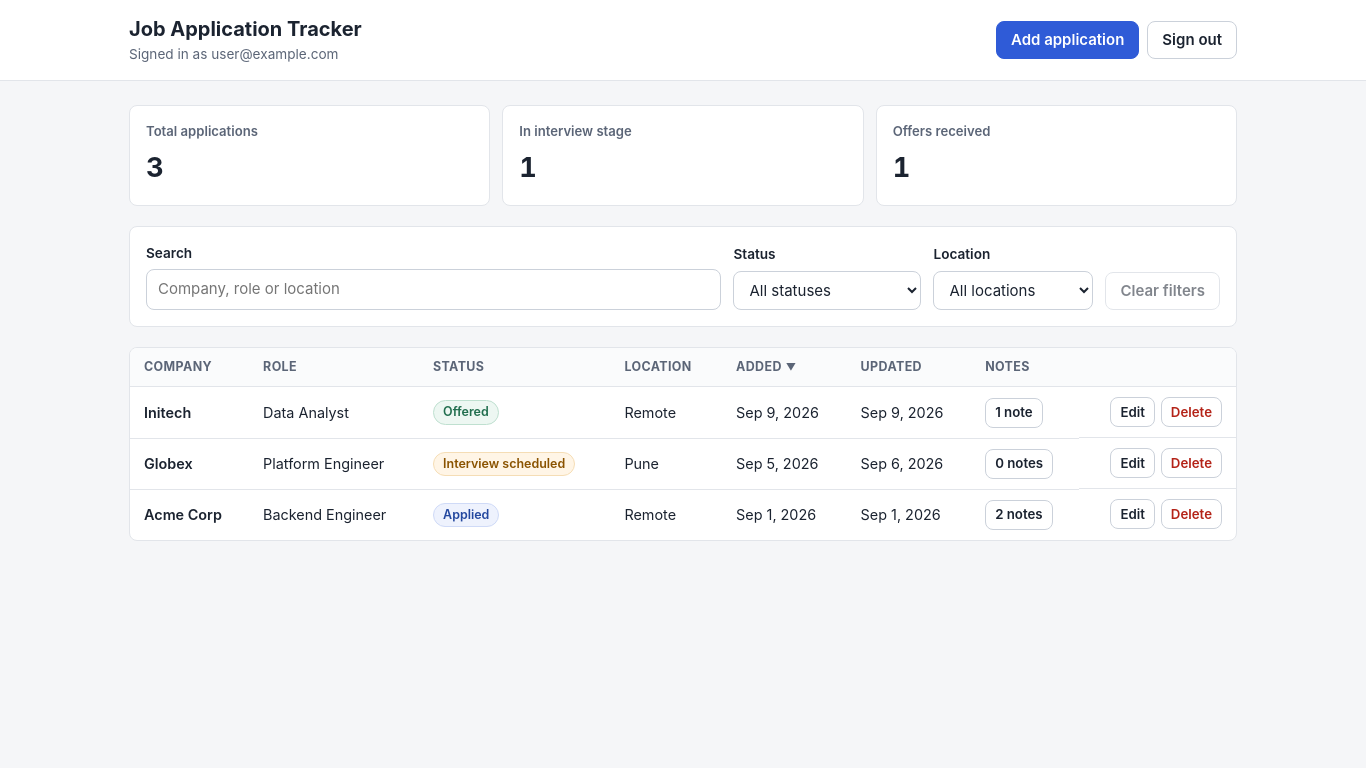
it: Dashboard › searches across company, role and location without extra requests
Expected: the cell "Acme Corp" is shown, [130,490,249,540]
In the search field labelled "Search": (434, 290) [146,269,722,310], type "Data Analyst"
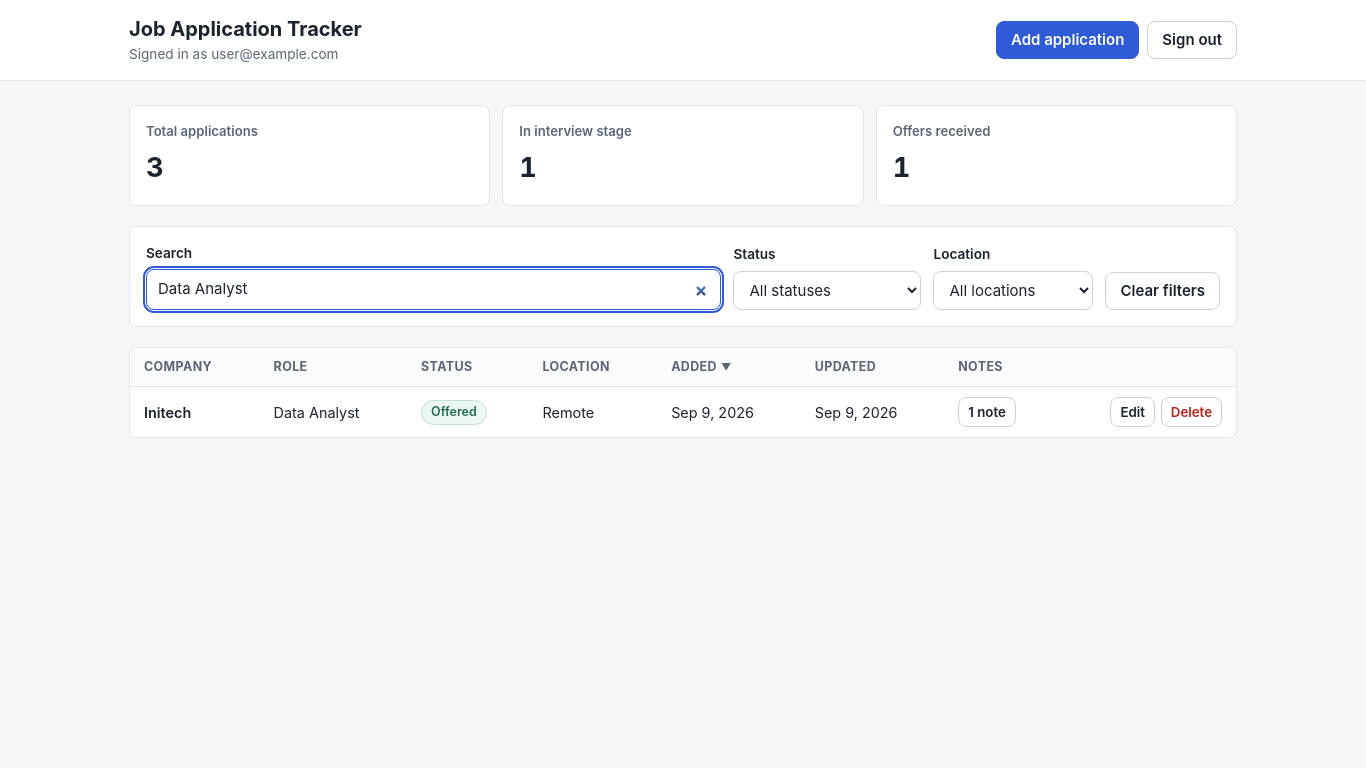
Expected: the cell "Initech" is shown, [130,388,260,438]
Result: the cell "Acme Corp" is gone
